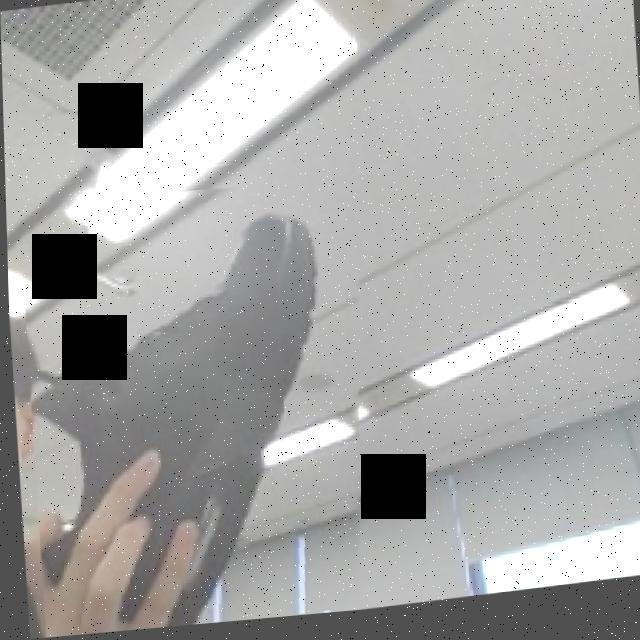shoe: (16, 165, 381, 639)
